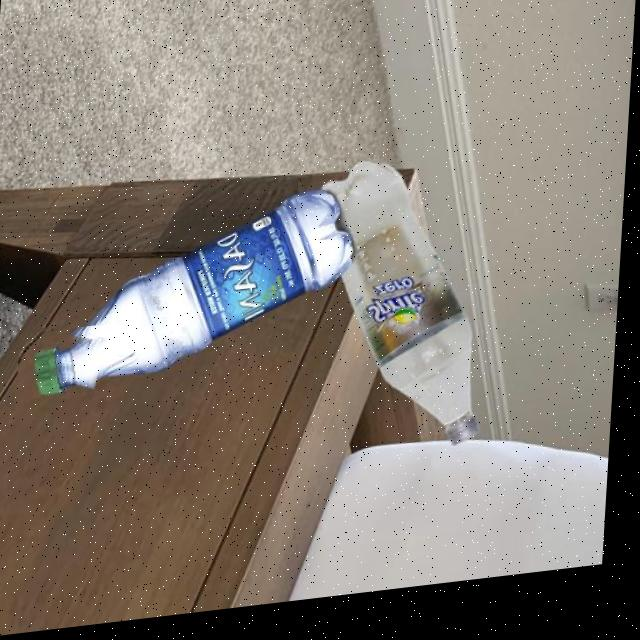litter: (19, 326, 113, 423)
